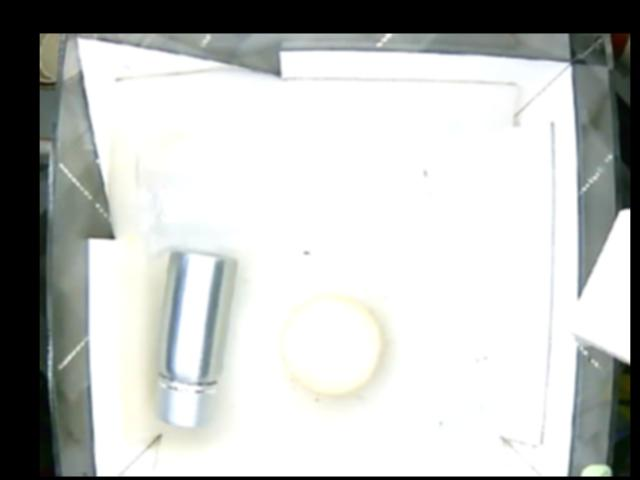Bottle: (153, 250, 239, 426), (140, 155, 280, 240)
Mooli: (282, 297, 382, 396)
